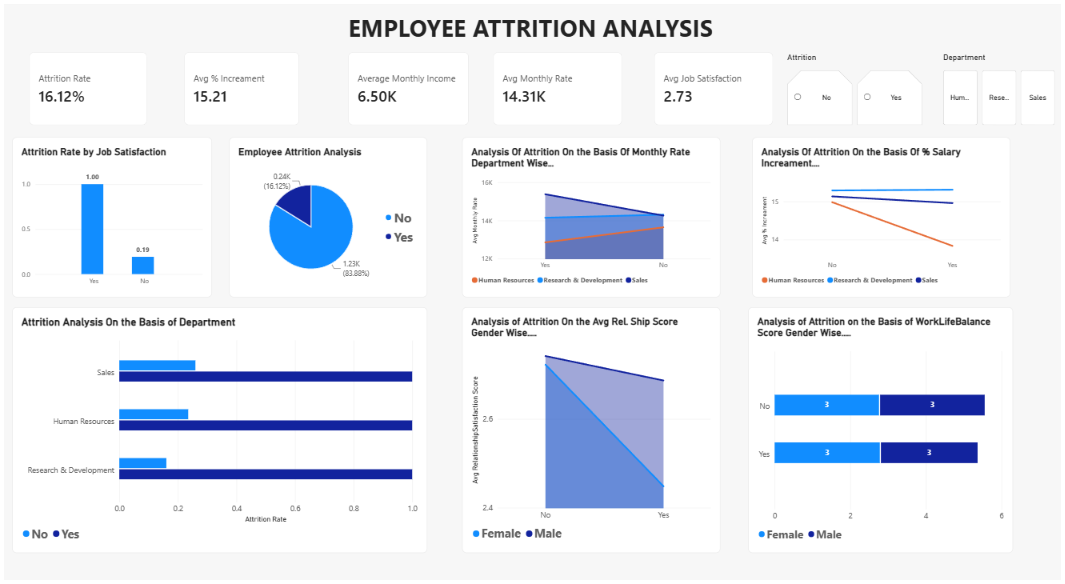

The page's visual inventory and layout, read from the dashboard file:
{"tool":"powerbi","page":{"name":"Employee Attrition Analysis ","canvas":[1920,1080],"ordinal":1},"visuals":[{"type":"textbox","box":[347.5,21.7,1214.3,86.9],"z":0},{"type":"columnChart","title":"Attrition Rate by Job Satisfaction","fields":{"Category":["HR_Analytics (2).Attrition"],"Y":["HR_Analytics (2).Attrition Rate"]},"box":[16.3,249.7,361.9,289.5],"z":1},{"type":"pieChart","title":"Employee Attrition Analysis","fields":{"Category":["HR_Analytics (2).Attrition"],"Y":["Sum(HR_Analytics (2).EmployeeCount)"]},"box":[409,249.7,358.3,289.5],"z":2},{"type":"clusteredBarChart","title":"Attrition Analysis On the Basis of Department","fields":{"Category":["HR_Analytics (2).Department"],"Series":["HR_Analytics (2).Attrition"],"Y":["HR_Analytics (2).Attrition Rate"]},"box":[16.3,557.4,751,445.2],"z":3},{"type":"areaChart","title":"Analysis Of Attrition On the Basis Of Monthly Rate Department Wise...","fields":{"Category":["HR_Analytics (2).Attrition"],"Series":["HR_Analytics (2).Department"],"Y":["HR_Analytics (2).Avg Monthly Rate"]},"box":[830.6,249.7,466.9,289.5],"z":4},{"type":"lineChart","title":"Analysis Of Attrition On the Basis Of % Salary Increament....","fields":{"Category":["HR_Analytics (2).Attrition"],"Series":["HR_Analytics (2).Department"],"Y":["HR_Analytics (2).Avg % Increament"]},"box":[1355.4,249.7,466.9,289.5],"z":5},{"type":"areaChart","title":"Analysis of Attrition On the Avg Rel. Ship Score Gender Wise.....","fields":{"Category":["HR_Analytics (2).Attrition"],"Series":["HR_Analytics (2).Gender"],"Y":["HR_Analytics (2).Avg RelationshipSatisfaction Score"]},"box":[831,557,467,445],"z":6},{"type":"barChart","title":"Analysis of Attrition on the Basis of WorkLifeBalance Score Gender Wise.....","fields":{"Category":["HR_Analytics (2).Attrition"],"Series":["HR_Analytics (2).Gender"],"Y":["HR_Analytics (2).Avg WorkLifeBalance Score"]},"box":[1348.2,557.4,479.6,445.2],"z":7},{"type":"cardVisual","fields":{"Data":["HR_Analytics (2).Attrition Rate"]},"box":[47.1,95.9,213.5,132.1],"z":8},{"type":"cardVisual","fields":{"Data":["HR_Analytics (2).Avg % Increament"]},"box":[327.5,95.9,208.1,132.1],"z":9},{"type":"cardVisual","fields":{"Data":["HR_Analytics (2).Average Monthly Income"]},"box":[624.3,95.9,219,132.1],"z":10},{"type":"cardVisual","fields":{"Data":["HR_Analytics (2).Avg Monthly Rate"]},"box":[886.7,95.9,233.4,132.1],"z":11},{"type":"cardVisual","fields":{"Data":["HR_Analytics (2).Avg Job Satisfaction"]},"box":[1178.1,95.9,215.3,132.1],"z":12},{"type":"advancedSlicerVisual","fields":{"Values":["HR_Analytics (2).Attrition"]},"box":[1418.8,95.9,244.3,132.1],"z":13},{"type":"advancedSlicerVisual","fields":{"Values":["HR_Analytics (2).Department"]},"box":[1701.1,95.9,202.7,132.1],"z":14}]}

Visuals, with their boxes in screenshot pixels (x1, y1, x2, y2), scaled from the page's 1920x1080 canvas onto the 1065x584 screenshot:
textbox: region(193, 12, 866, 59)
"Attrition Rate by Job Satisfaction" columnChart: region(9, 135, 210, 292)
"Employee Attrition Analysis" pieChart: region(227, 135, 426, 292)
"Attrition Analysis On the Basis of Department" clusteredBarChart: region(9, 301, 426, 542)
"Analysis Of Attrition On the Basis Of Monthly Rate Department Wise..." areaChart: region(461, 135, 720, 292)
"Analysis Of Attrition On the Basis Of % Salary Increament...." lineChart: region(752, 135, 1011, 292)
"Analysis of Attrition On the Avg Rel. Ship Score Gender Wise....." areaChart: region(461, 301, 720, 542)
"Analysis of Attrition on the Basis of WorkLifeBalance Score Gender Wise....." barChart: region(748, 301, 1014, 542)
cardVisual - HR_Analytics (2).Attrition Rate: region(26, 52, 145, 123)
cardVisual - HR_Analytics (2).Avg % Increament: region(182, 52, 297, 123)
cardVisual - HR_Analytics (2).Average Monthly Income: region(346, 52, 468, 123)
cardVisual - HR_Analytics (2).Avg Monthly Rate: region(492, 52, 621, 123)
cardVisual - HR_Analytics (2).Avg Job Satisfaction: region(653, 52, 773, 123)
advancedSlicerVisual - HR_Analytics (2).Attrition: region(787, 52, 923, 123)
advancedSlicerVisual - HR_Analytics (2).Department: region(944, 52, 1056, 123)
